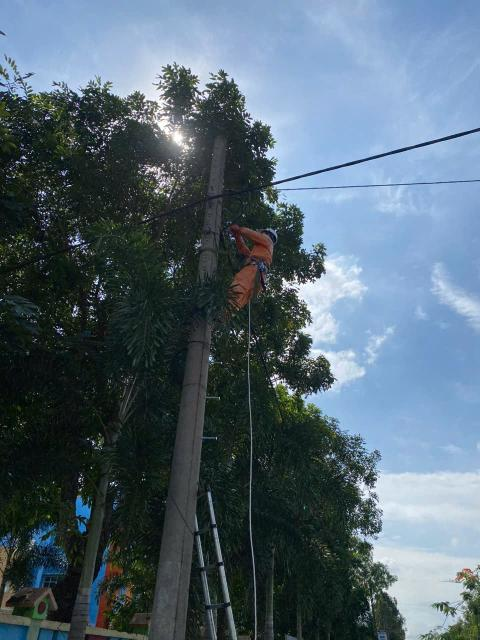gloves: (233, 231, 247, 250), (229, 220, 245, 234)
harness: (239, 251, 271, 270)
helmet: (257, 228, 285, 244)
